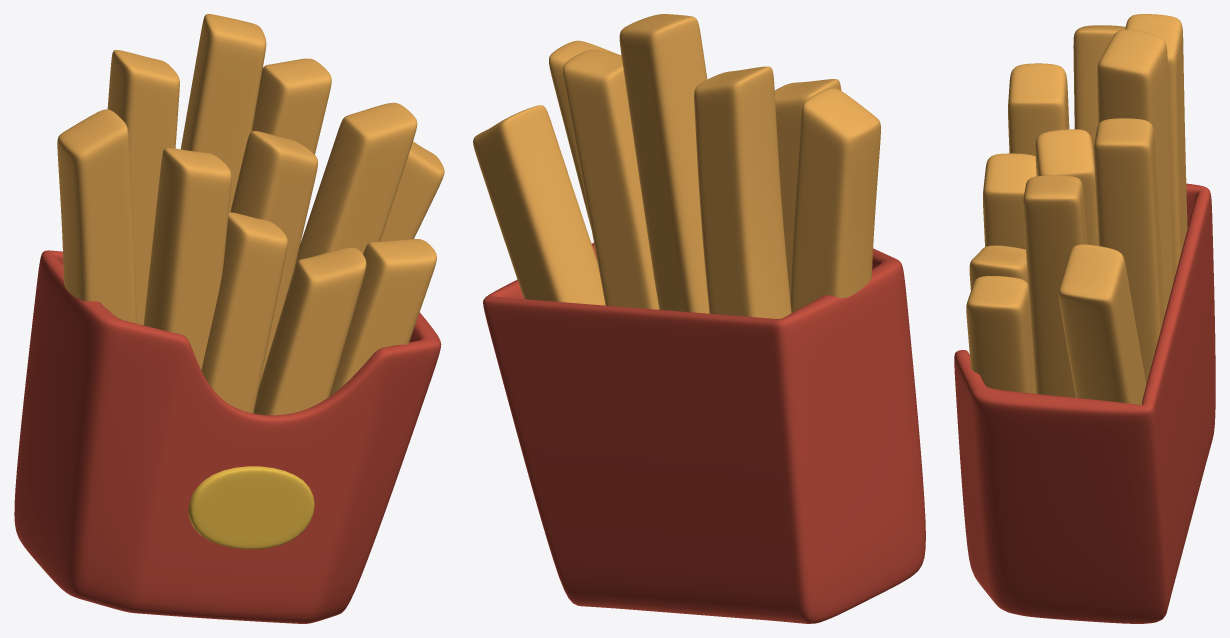
The model's file is French Fries.fbx.
3 renders of one model, left to right at view 1: azimuth 30°, elevation 25°; view 2: azimuth 150°, elevation 25°; view 3: azimuth 270°, elevation 25°, orthographic. The views are drawn at different scales.
Parts seen in each view (by area): view 1: friench_fries.001_Plane.123, ff_box.001_Plane.124; view 2: ff_box.001_Plane.124, friench_fries.001_Plane.123; view 3: friench_fries.001_Plane.123, ff_box.001_Plane.124.
Part boxes in pixels (x1,y1,x2,y2): friench_fries.001_Plane.123: (57, 14, 444, 415); ff_box.001_Plane.124: (14, 250, 441, 623); ff_box.001_Plane.124: (483, 243, 925, 623); friench_fries.001_Plane.123: (473, 14, 880, 318); friench_fries.001_Plane.123: (966, 14, 1187, 404); ff_box.001_Plane.124: (954, 183, 1215, 623).
Bounding box in the file's own units: 145 × 198 × 84.91.
